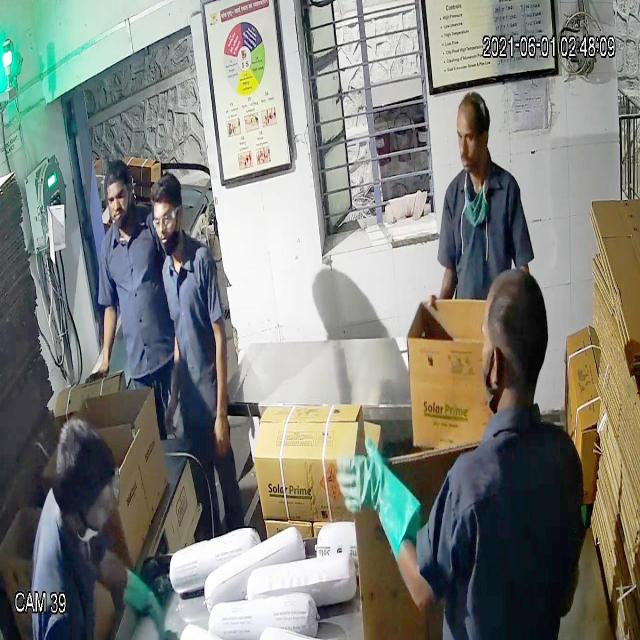glasses: (152, 206, 184, 235)
no-glass: (451, 122, 494, 156), (105, 181, 133, 209)
